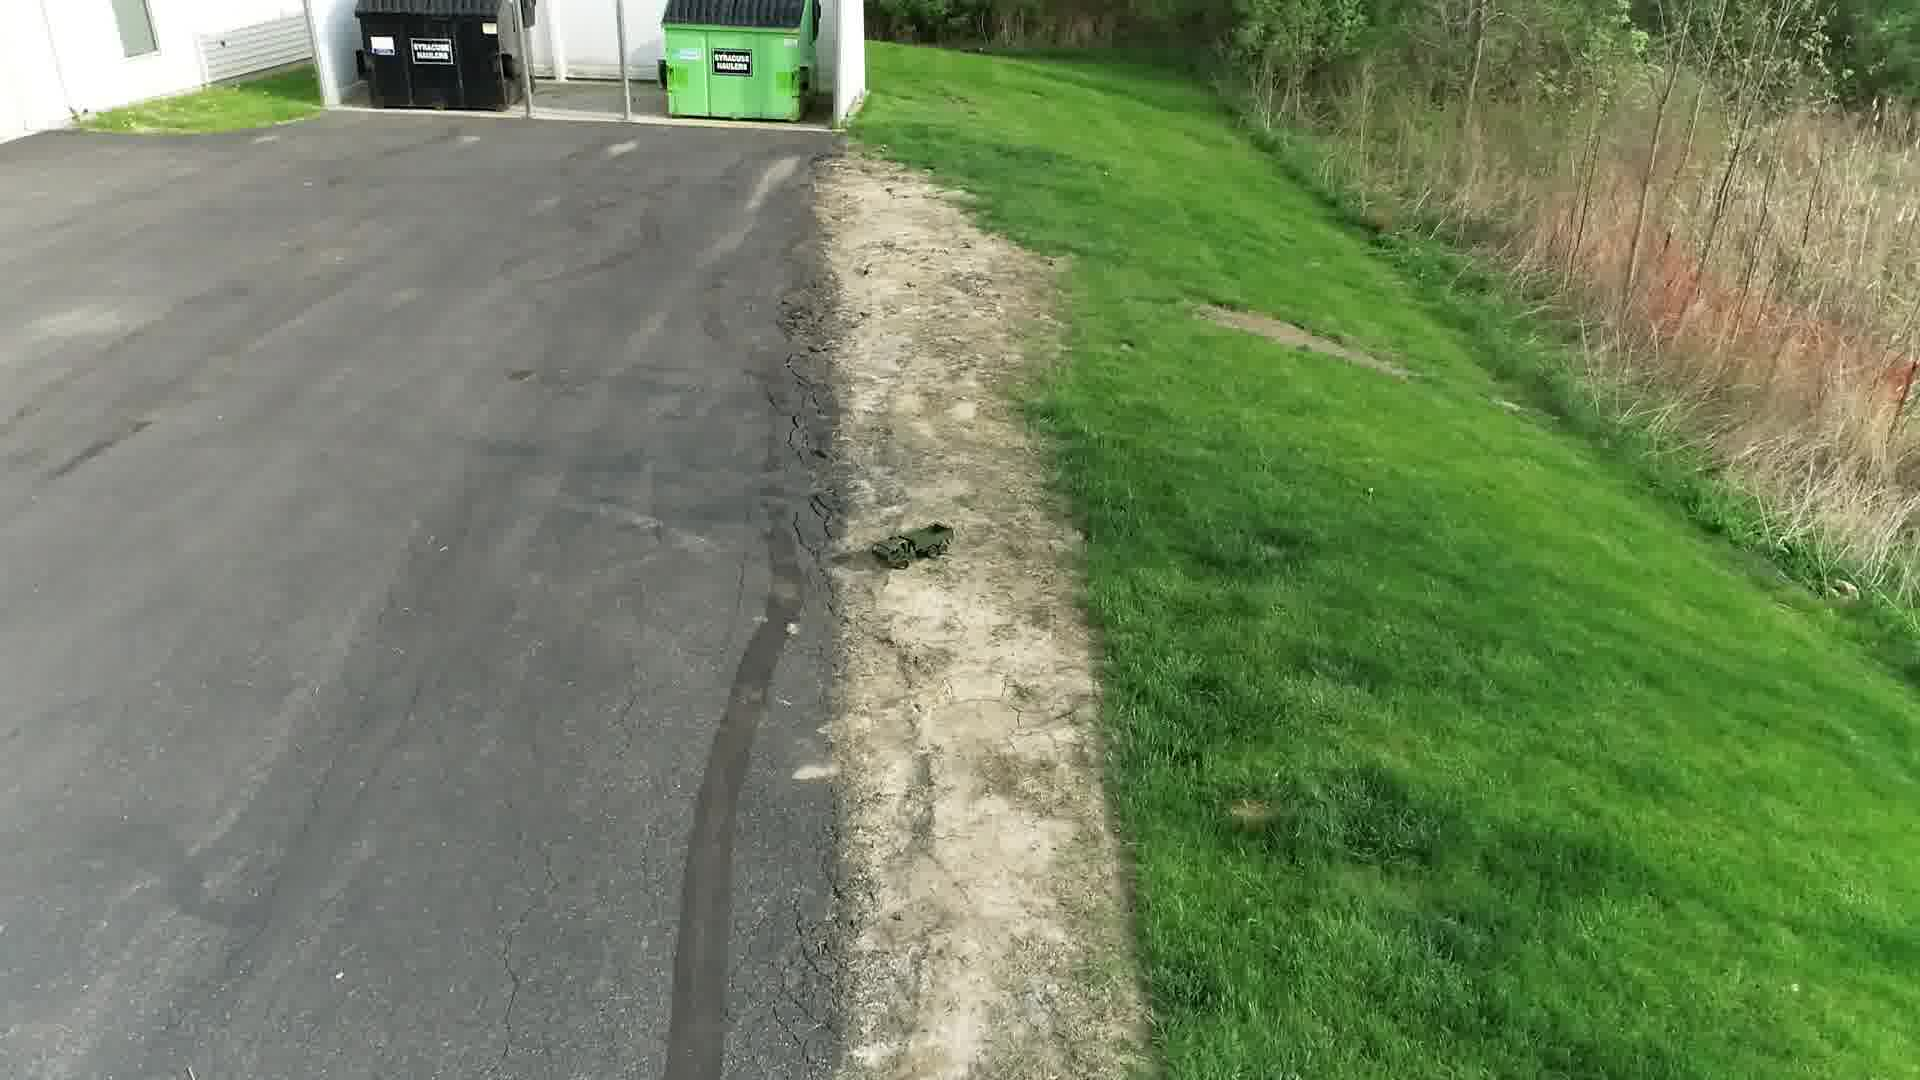transporter9: (869, 520, 956, 571)
